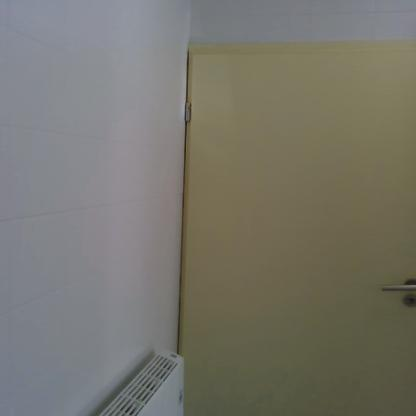door: (190, 49, 416, 416)
hinged: (184, 100, 192, 122)
lever: (378, 280, 416, 294)
